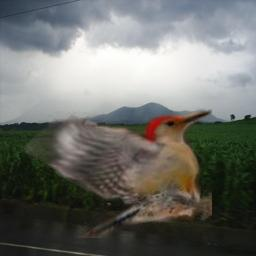Woodpecker: (22, 108, 212, 238)
